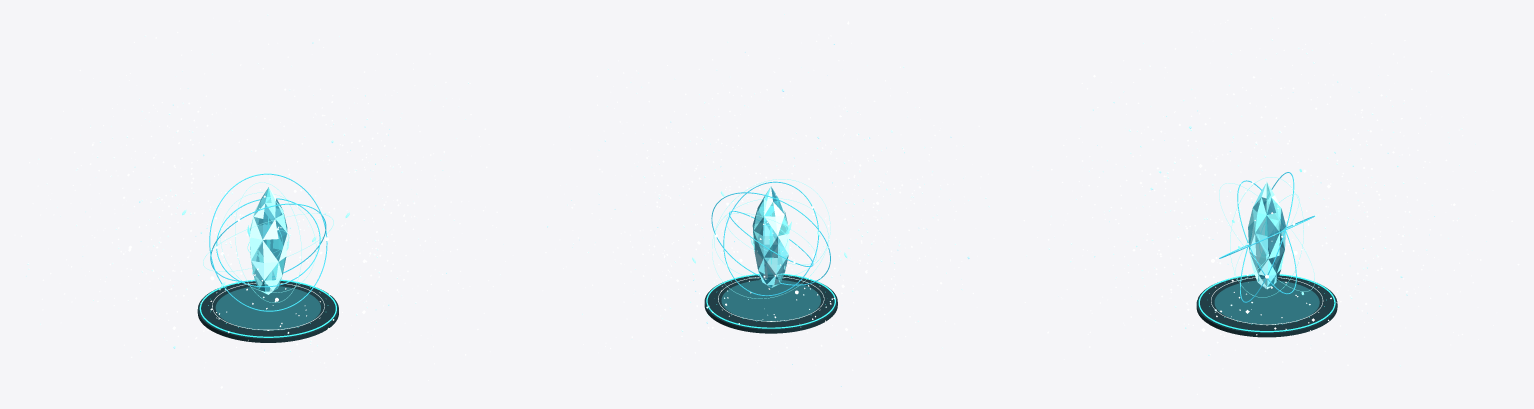
The model's file is aquamarine-starry-night.glb.
The picture shows the model from 3 angles, left to right: view 1: azimuth 30°, elevation 25°; view 2: azimuth 150°, elevation 25°; view 3: azimuth 270°, elevation 25°; orthographic projection. The views are drawn at different scales.
Visible parts, largest first — view 1: Base_Glass_Surface, Holographic_Base, Aquamarine_Main_Crystal, Starfield_Near_GLTF_Mesh, Starfield_Far_GLTF_Mesh, Precision_Orbit_Outer, Base_Luminous_Rim, Precision_Orbit_Inner; view 2: Base_Glass_Surface, Holographic_Base, Aquamarine_Main_Crystal, Starfield_Near_GLTF_Mesh, Starfield_Far_GLTF_Mesh, Base_Luminous_Rim, Precision_Orbit_Middle, Precision_Orbit_Outer; view 3: Base_Glass_Surface, Holographic_Base, Aquamarine_Main_Crystal, Starfield_Near_GLTF_Mesh, Starfield_Far_GLTF_Mesh, Base_Luminous_Rim.
Boxes of the visible parts, x1,y1,x2,y2 form: Base_Glass_Surface: (215,286,320,330); Holographic_Base: (197,281,338,342); Aquamarine_Main_Crystal: (249,187,287,294); Starfield_Near_GLTF_Mesh: (118,88,425,362); Starfield_Far_GLTF_Mesh: (14,14,513,394); Precision_Orbit_Outer: (209,173,327,311); Base_Luminous_Rim: (199,279,336,337); Precision_Orbit_Inner: (216,198,320,287); Base_Glass_Surface: (721,280,820,322); Holographic_Base: (704,275,837,333); Aquamarine_Main_Crystal: (752,186,789,287); Starfield_Near_GLTF_Mesh: (620,89,921,352); Starfield_Far_GLTF_Mesh: (542,14,994,394); Base_Luminous_Rim: (706,274,835,328); Precision_Orbit_Middle: (723,181,818,296); Precision_Orbit_Outer: (711,192,830,285); Base_Glass_Surface: (1214,280,1319,325); Holographic_Base: (1196,275,1337,337); Aquamarine_Main_Crystal: (1248,182,1285,289); Starfield_Near_GLTF_Mesh: (1115,82,1417,351); Starfield_Far_GLTF_Mesh: (1023,14,1519,394); Base_Luminous_Rim: (1198,274,1335,332).
Bounding box in the file's own units: 24.84 × 13.52 × 25.02.
